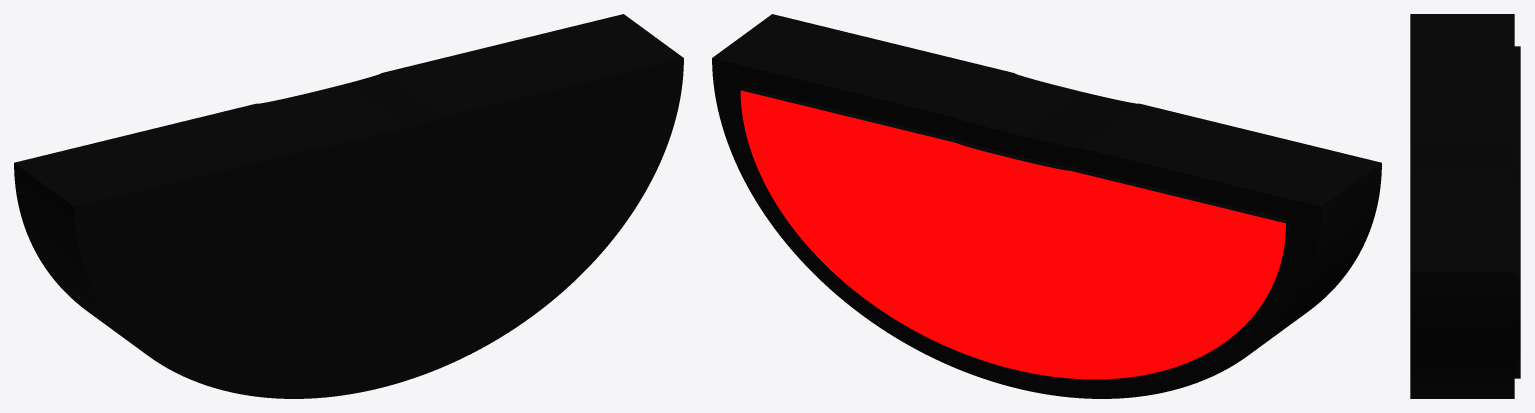
File: Arch.fbx
The picture shows the model from 3 angles, left to right: view 1: azimuth 30°, elevation 25°; view 2: azimuth 150°, elevation 25°; view 3: azimuth 270°, elevation 25°; orthographic projection. The views are drawn at different scales.
Parts seen in each view (by area): view 1: Arch; view 2: Arch__1_, Arch; view 3: Arch, Arch__1_.
Boxes of the visible parts, x1,y1,x2,y2 form: Arch: [14, 14, 683, 398]; Arch__1_: [740, 87, 1289, 379]; Arch: [712, 14, 1381, 398]; Arch: [1410, 14, 1514, 398]; Arch__1_: [1514, 46, 1520, 378].
Bounding box in the file's own units: 473 × 190 × 85.74.
